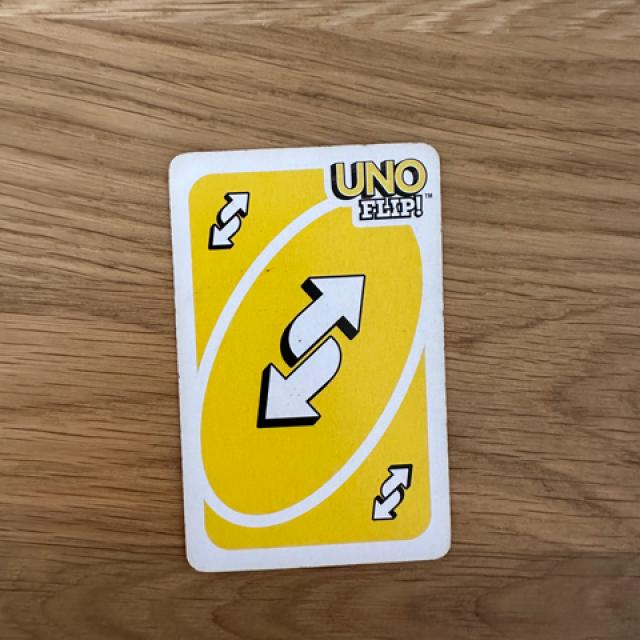lyellowrevers-20: (187, 170, 275, 262)
